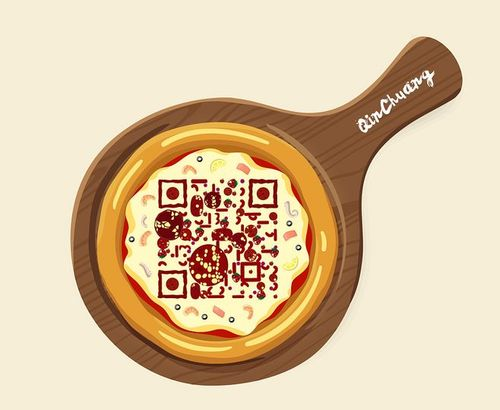QRCode: (157, 174, 285, 302)
